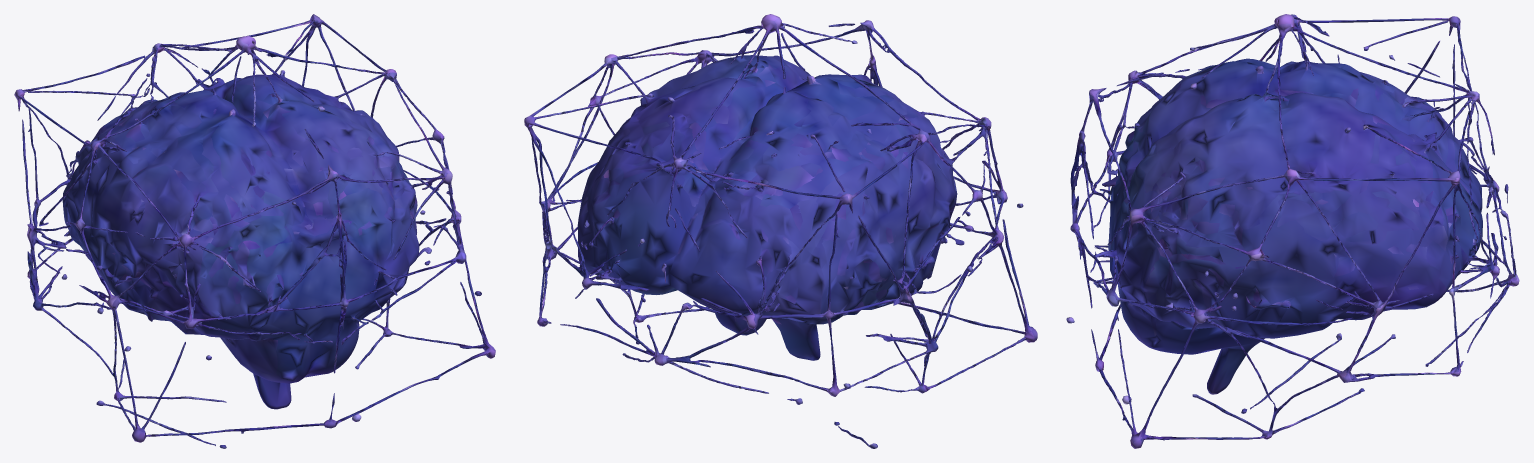
Rendered from neural-connections.glb.
3 renders of one model, left to right at view 1: azimuth 30°, elevation 25°; view 2: azimuth 150°, elevation 25°; view 3: azimuth 270°, elevation 25°, orthographic. The views are drawn at different scales.
Size of the model in its own units: 1.99 by 1.99 by 1.95.
Materials: 1 (1 with a texture image).
